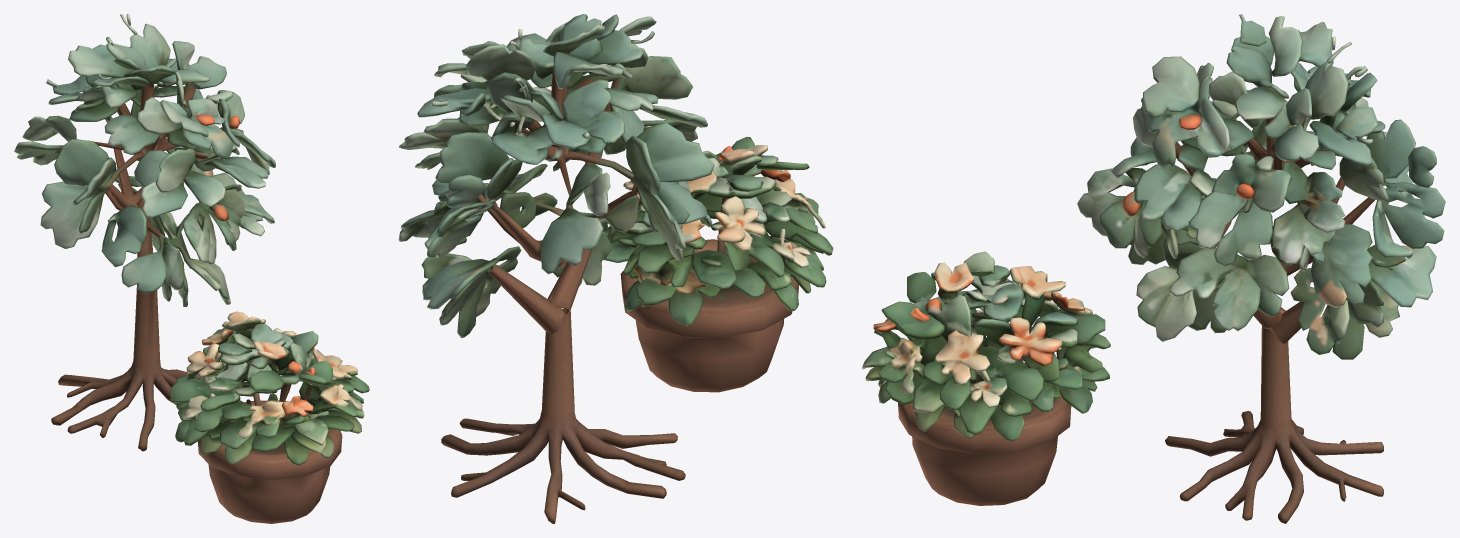
File: 25814f77-806a-4286-b7f8-538eb0e85b8d-pbr_model.glb
3 views of the same model, side by side, from view 1: azimuth 30°, elevation 25°; view 2: azimuth 150°, elevation 25°; view 3: azimuth 270°, elevation 25° (orthographic). The views are drawn at different scales.
Parts seen in each view (by area): view 1: tripo_node_25814f77-806a-4286-b7f8-538eb0e85b8d; view 2: tripo_node_25814f77-806a-4286-b7f8-538eb0e85b8d; view 3: tripo_node_25814f77-806a-4286-b7f8-538eb0e85b8d.
Part boxes in pixels (x1,y1,x2,y2): tripo_node_25814f77-806a-4286-b7f8-538eb0e85b8d: (14, 14, 369, 523); tripo_node_25814f77-806a-4286-b7f8-538eb0e85b8d: (398, 14, 833, 523); tripo_node_25814f77-806a-4286-b7f8-538eb0e85b8d: (862, 14, 1445, 523).
Size of the model in its own units: 0.3474 by 0.6 by 0.7016.
Materials: 1 (1 with a texture image).
